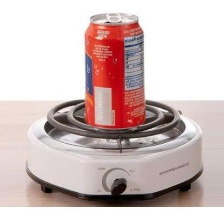can: (79, 8, 149, 134)
